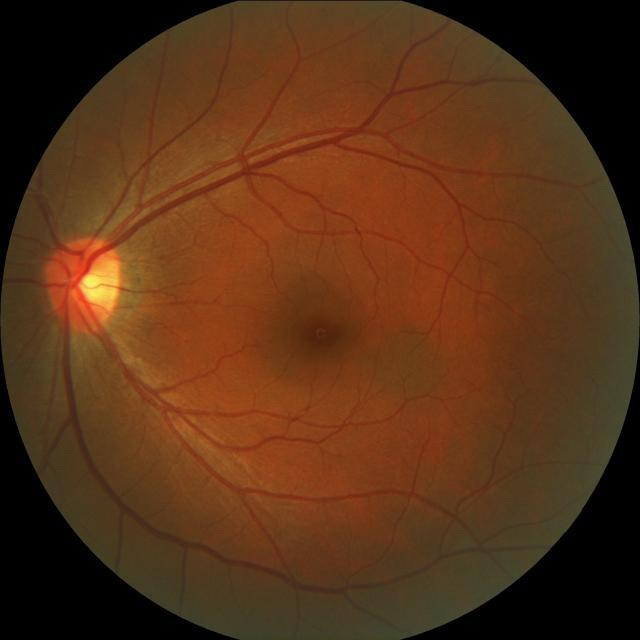OC: (76, 273, 103, 302)
OD: (44, 235, 122, 326)
